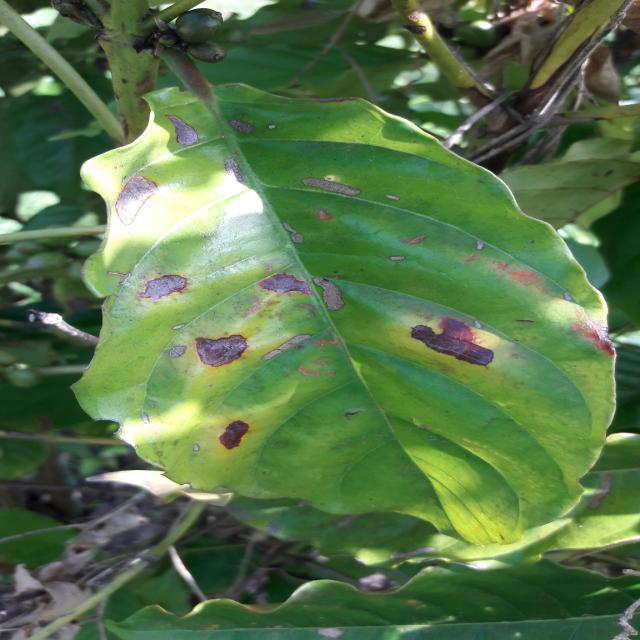Enfermedad-Roya: (71, 31, 617, 559)
